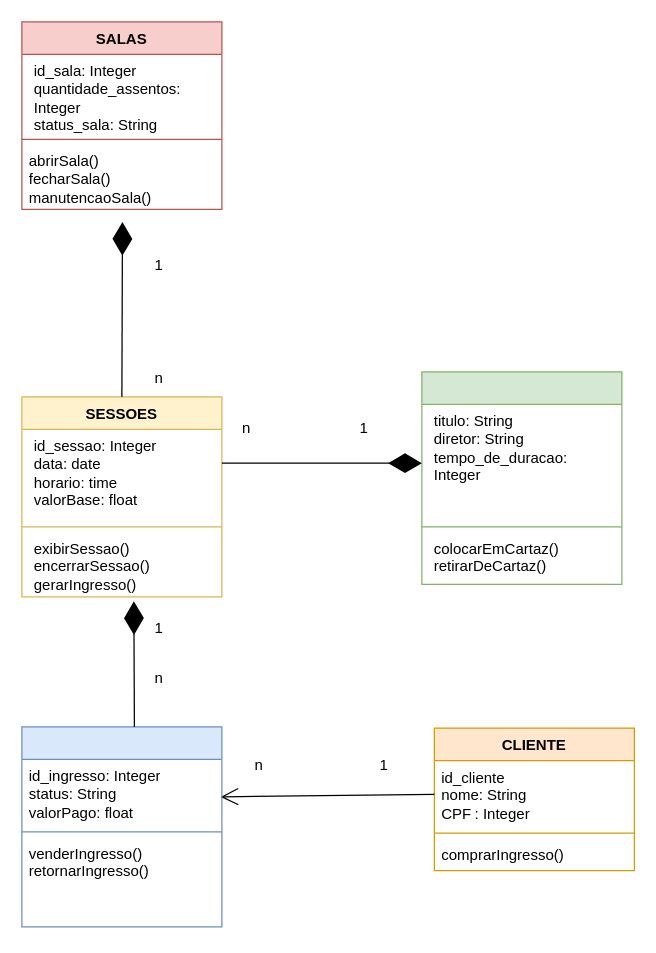
This 656x953 diagram has some shape labels left out. The box of each missing label's shape, as (x1, y1, x2, y2) in pixels:
FILMES: (421, 371, 622, 584)
INGRESSOS: (21, 726, 222, 927)
